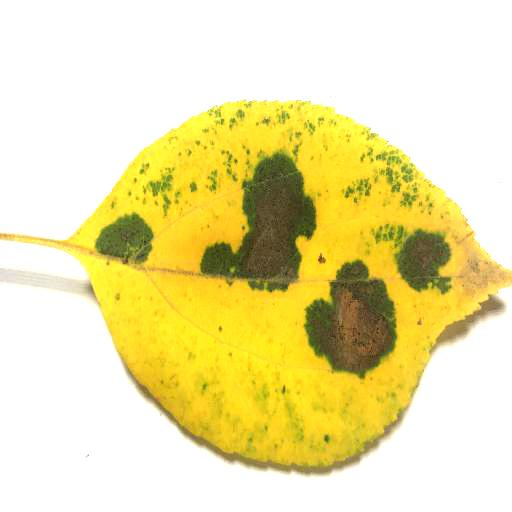Brown_Spot: (223, 163, 304, 281), (312, 277, 387, 374), (400, 234, 447, 291)
